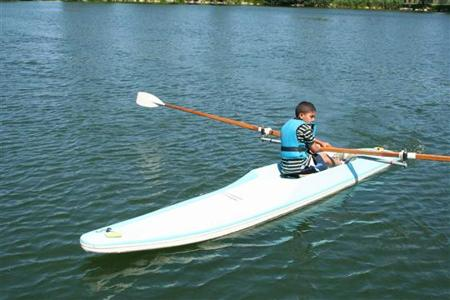person: (279, 101, 345, 178)
